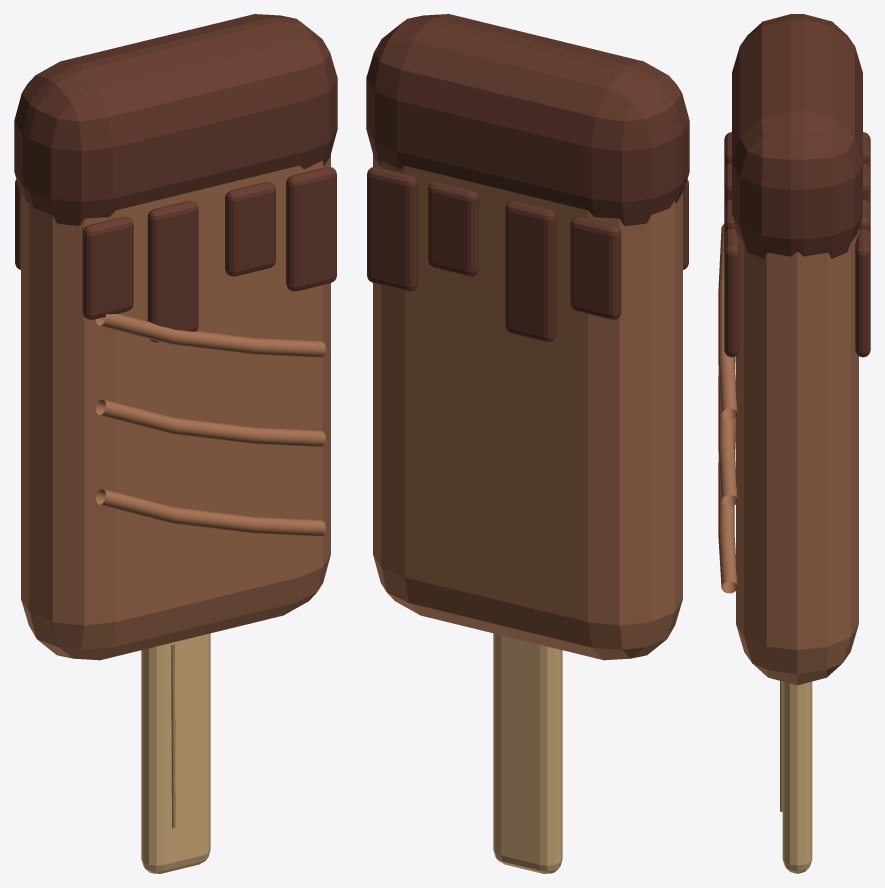
File: icecream_chocolate.glb
3 views of the same model, side by side, from view 1: azimuth 30°, elevation 25°; view 2: azimuth 150°, elevation 25°; view 3: azimuth 270°, elevation 25° (orthographic). The views are drawn at different scales.
Visible parts, largest first — view 1: Frozen cream body.001, Chocolate dipped cap.001, Thin wooden stick.001, Rounded chocolate drip.010, Rounded chocolate drip.014, Rounded chocolate drip.008, Rounded chocolate drip.012, Milk chocolate drizzle.001, Milk chocolate drizzle, Milk chocolate drizzle.002, Wood grain.001; view 2: Frozen cream body.001, Chocolate dipped cap.001, Thin wooden stick.001, Rounded chocolate drip.011, Rounded chocolate drip.015, Rounded chocolate drip.009, Rounded chocolate drip.013; view 3: Frozen cream body.001, Chocolate dipped cap.001, Thin wooden stick.001, Rounded chocolate drip.014, Rounded chocolate drip.015, Milk chocolate drizzle.002, Milk chocolate drizzle, Milk chocolate drizzle.001, Wood grain.001.
Part boxes in pixels (left/top/right/bottom): Frozen cream body.001: left=21, top=154, right=330, bottom=660; Chocolate dipped cap.001: left=14, top=14, right=337, bottom=225; Thin wooden stick.001: left=141, top=633, right=210, bottom=873; Rounded chocolate drip.010: left=147, top=200, right=198, bottom=342; Rounded chocolate drip.014: left=286, top=167, right=336, bottom=291; Rounded chocolate drip.008: left=82, top=216, right=133, bottom=319; Rounded chocolate drip.012: left=225, top=182, right=275, bottom=276; Milk chocolate drizzle.001: left=96, top=399, right=325, bottom=447; Milk chocolate drizzle: left=96, top=488, right=325, bottom=536; Milk chocolate drizzle.002: left=96, top=313, right=325, bottom=357; Wood grain.001: left=171, top=644, right=175, bottom=828; Frozen cream body.001: left=373, top=154, right=682, bottom=660; Chocolate dipped cap.001: left=366, top=14, right=689, bottom=225; Thin wooden stick.001: left=493, top=633, right=562, bottom=873; Rounded chocolate drip.011: left=505, top=200, right=556, bottom=342; Rounded chocolate drip.015: left=367, top=167, right=417, bottom=291; Rounded chocolate drip.009: left=570, top=216, right=621, bottom=319; Rounded chocolate drip.013: left=428, top=182, right=478, bottom=276; Frozen cream body.001: left=736, top=229, right=858, bottom=685; Chocolate dipped cap.001: left=732, top=14, right=862, bottom=258; Thin wooden stick.001: left=782, top=681, right=812, bottom=873; Rounded chocolate drip.014: left=724, top=228, right=739, bottom=357; Rounded chocolate drip.015: left=855, top=228, right=870, bottom=357; Milk chocolate drizzle.002: left=718, top=224, right=737, bottom=420; Milk chocolate drizzle: left=718, top=418, right=737, bottom=593; Milk chocolate drizzle.001: left=718, top=356, right=737, bottom=506; Wood grain.001: left=780, top=681, right=782, bottom=811.
Bounding box in the file's own units: 0.738 × 1.94 × 0.335.
